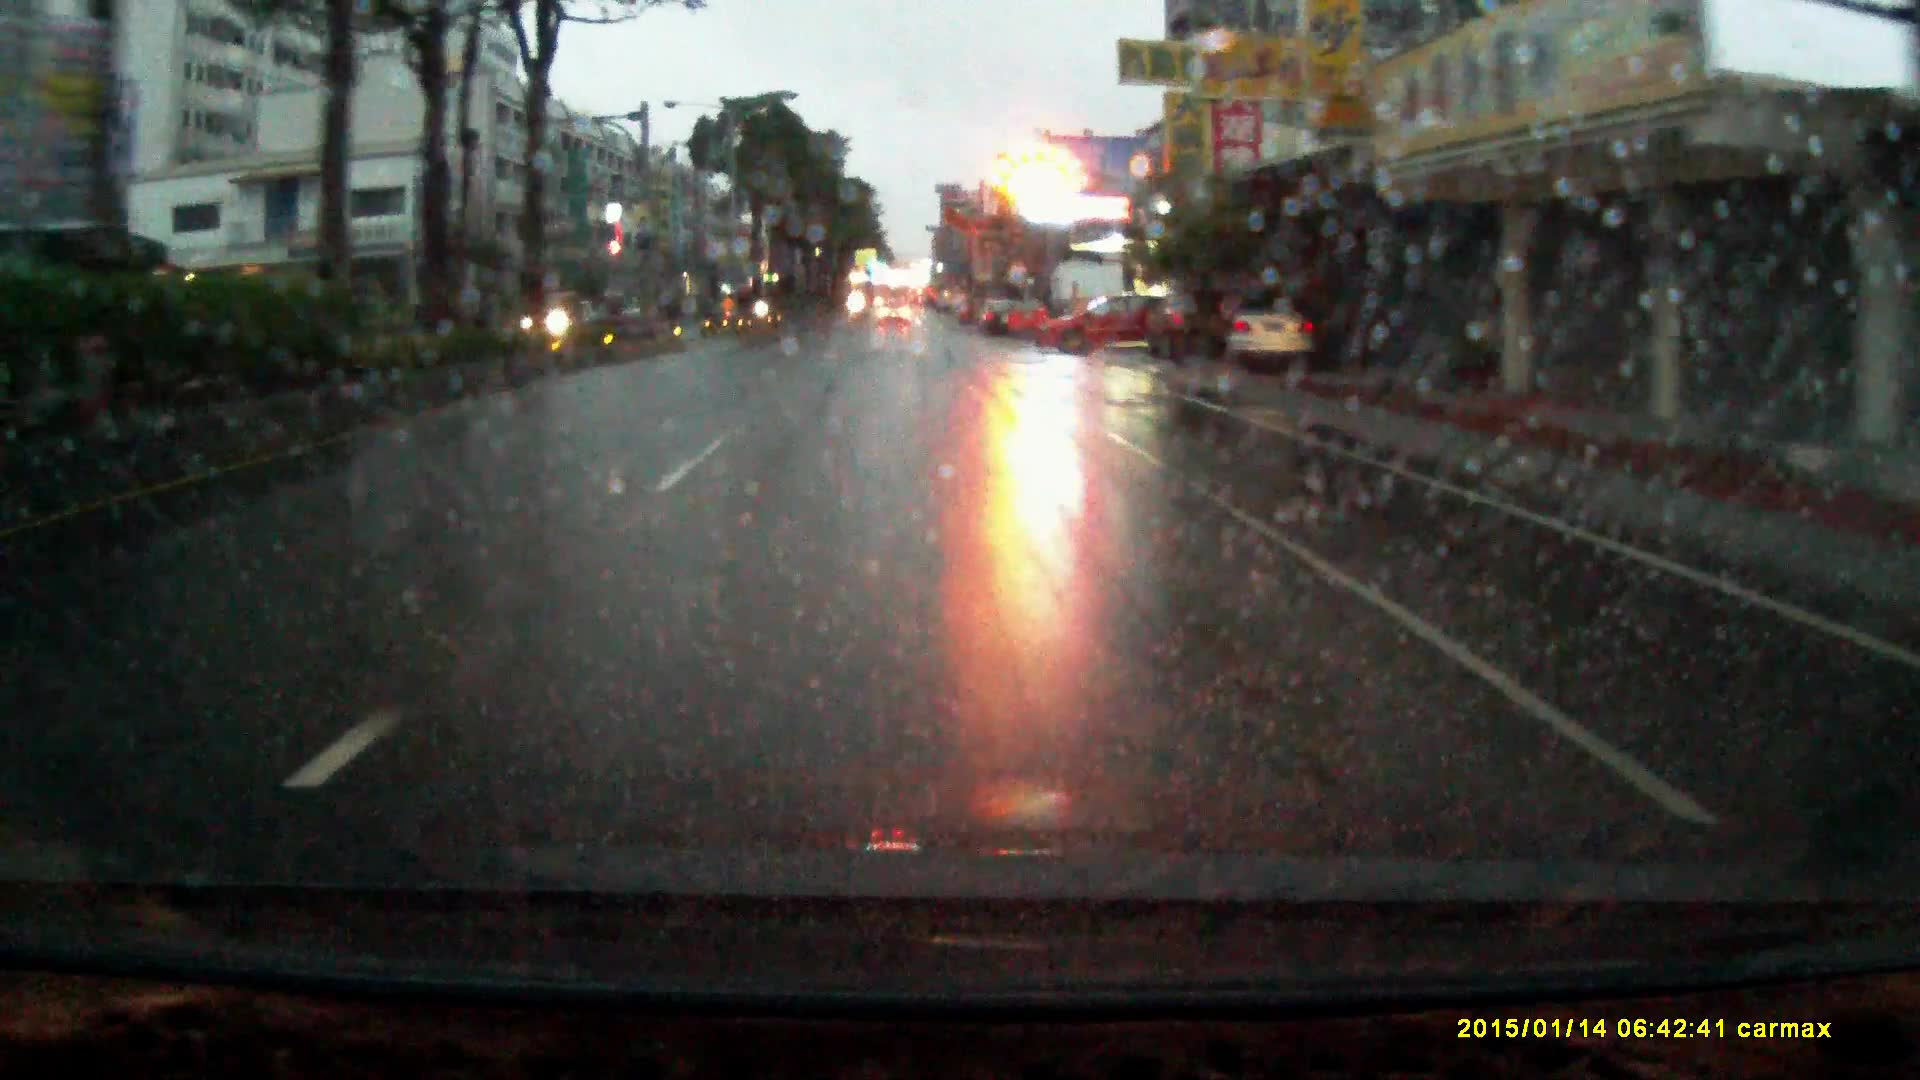vehicle: (1033, 294, 1182, 356), (1221, 293, 1321, 375), (1147, 287, 1236, 363), (516, 295, 589, 339), (1007, 298, 1051, 339), (978, 299, 1021, 338), (880, 301, 913, 328)
